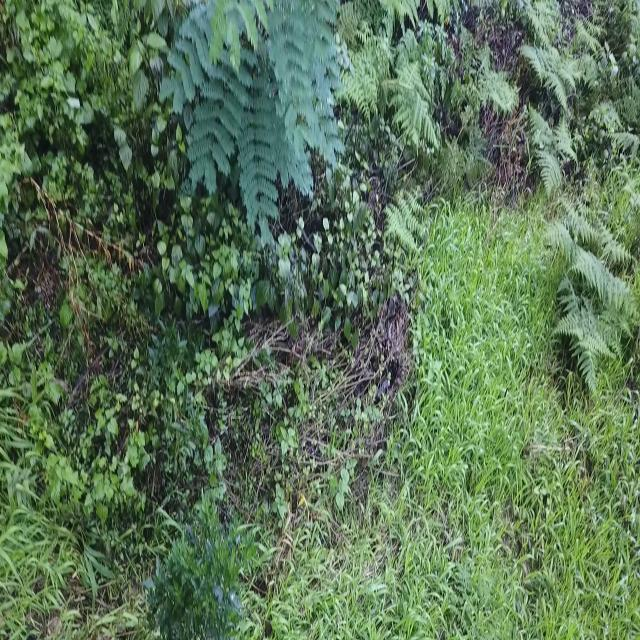Mysore-Thorn-Weed: (157, 0, 361, 236)
